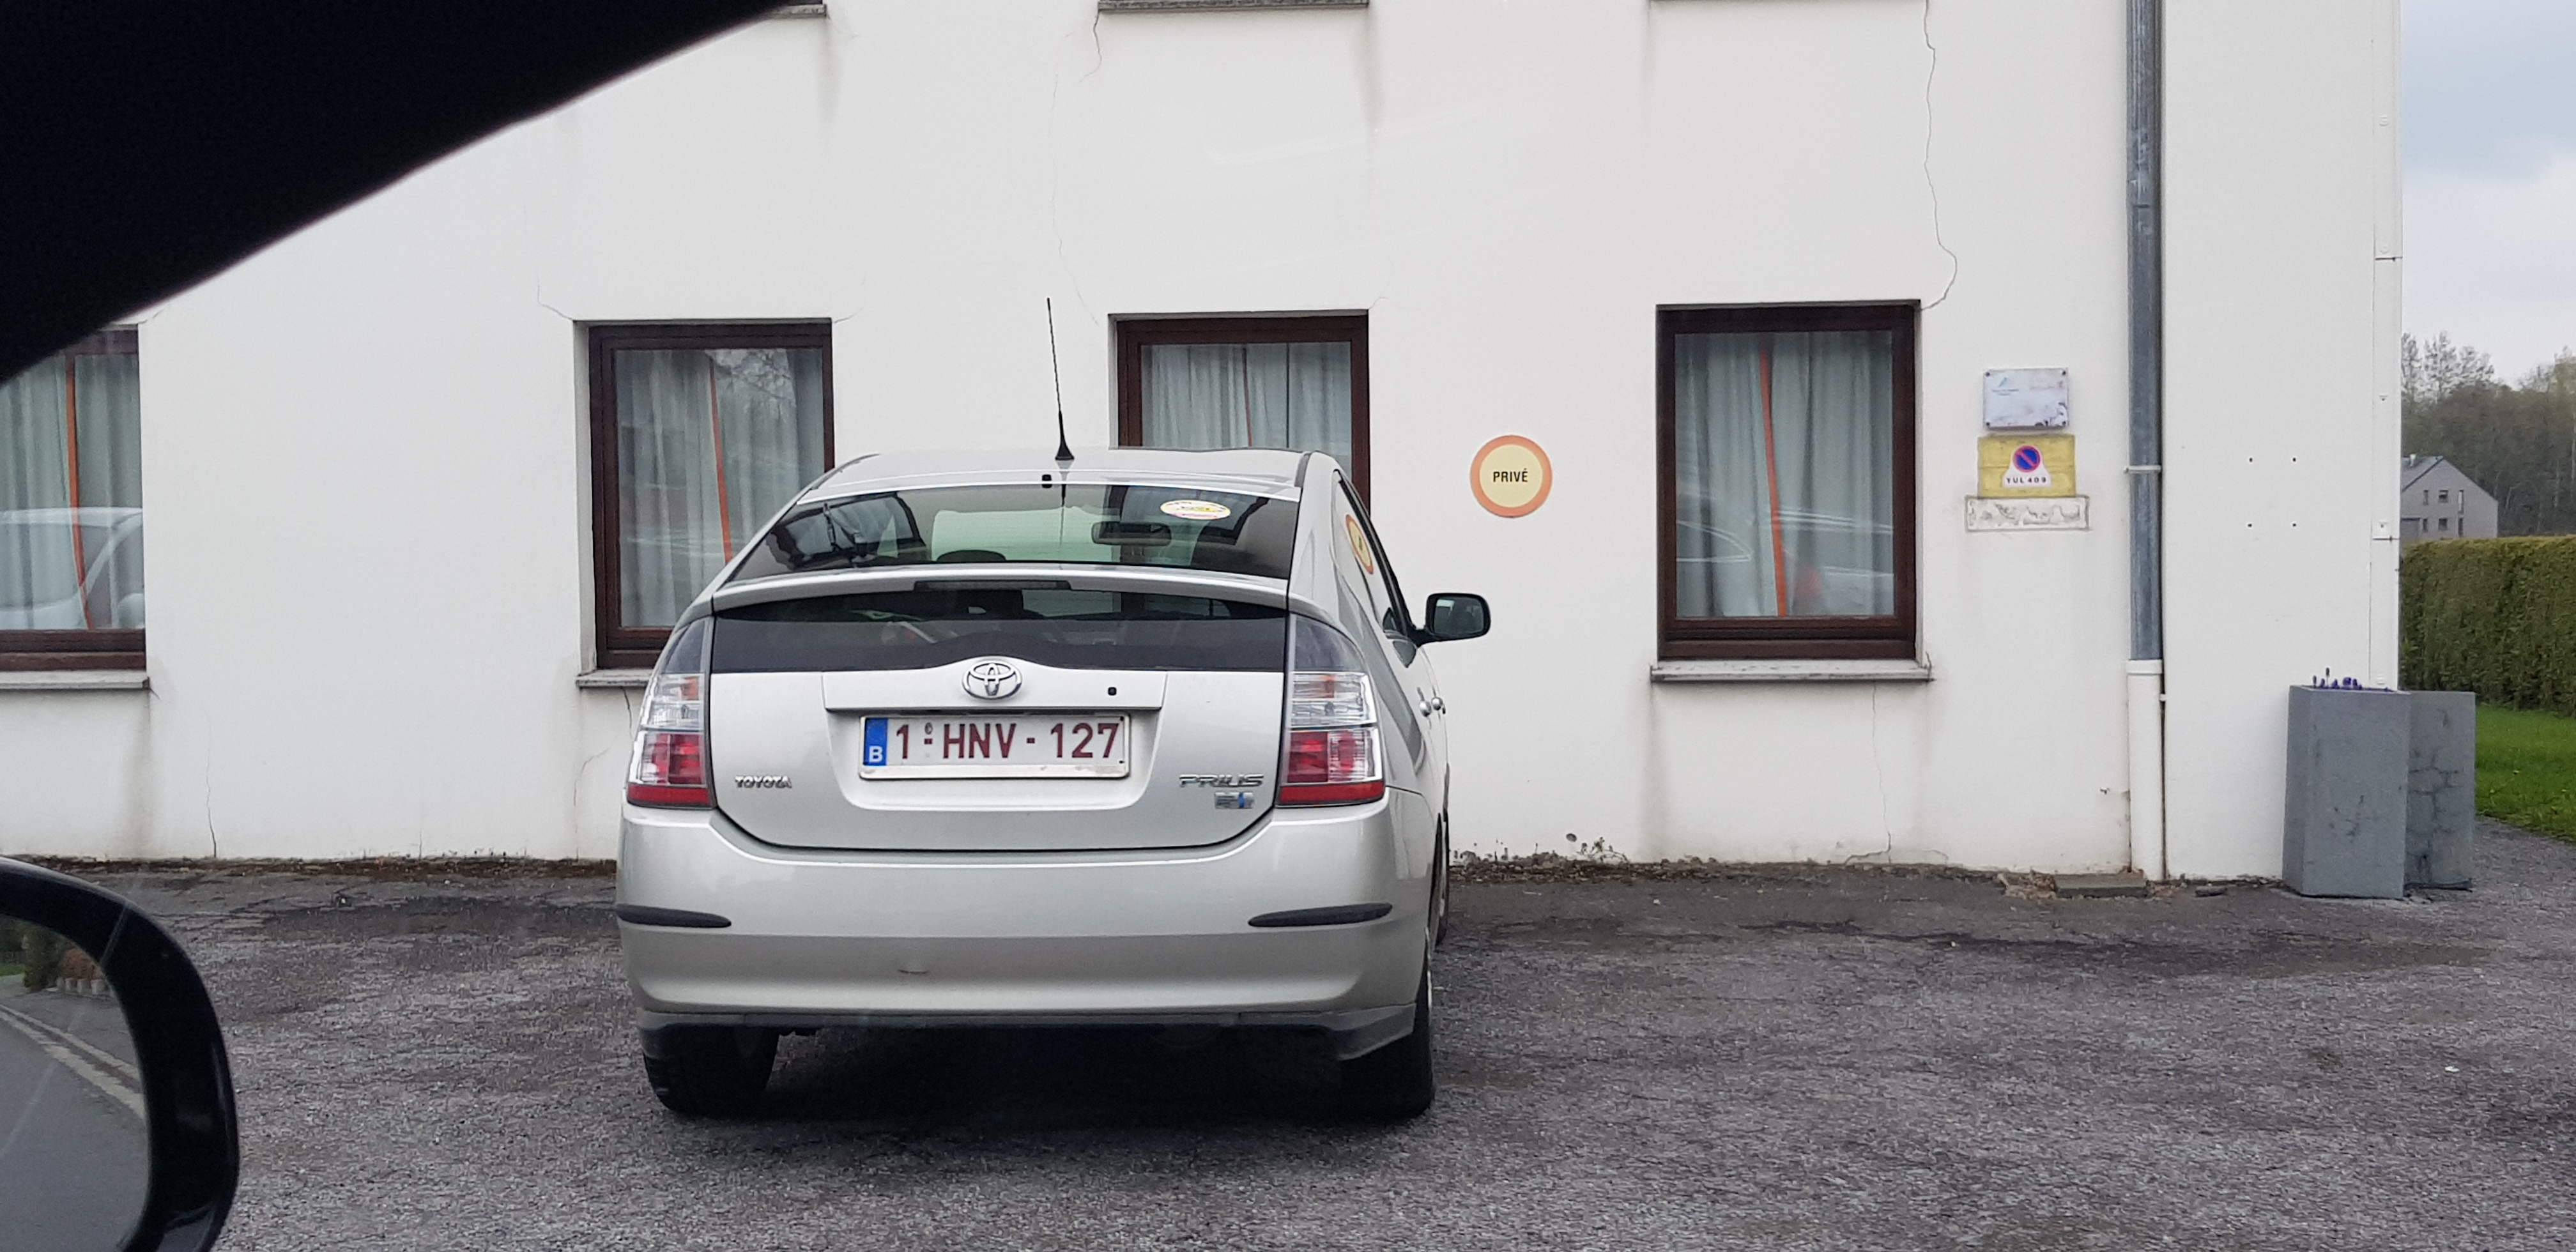licenceplate: (862, 710, 1127, 768)
